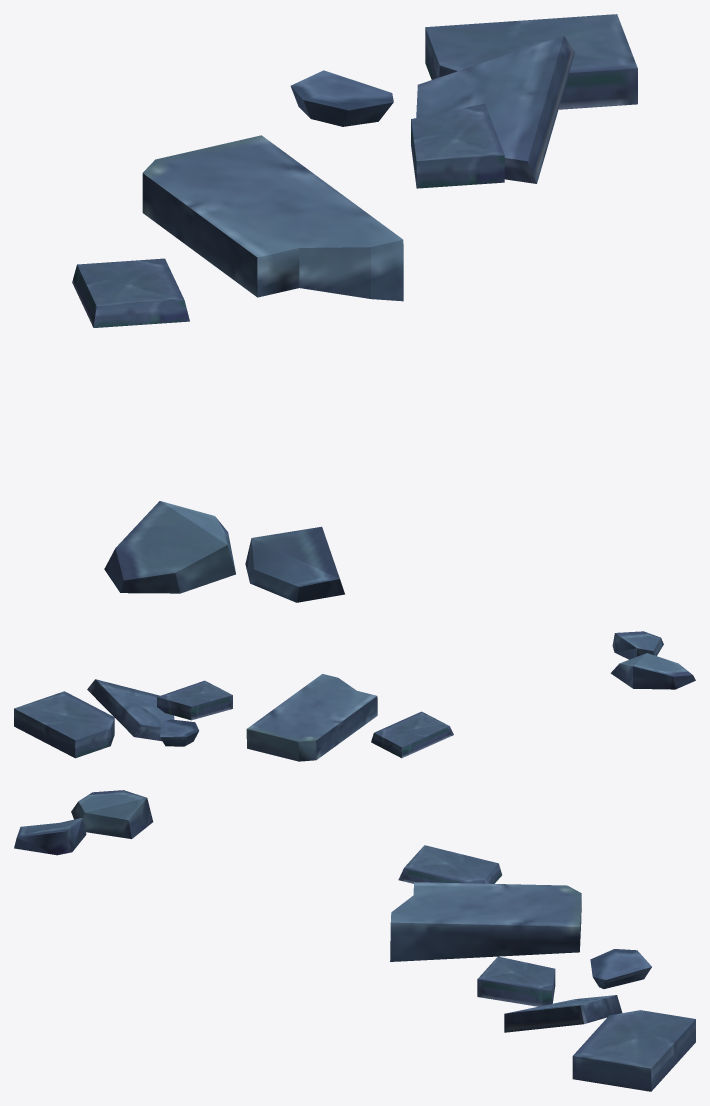
The model's file is Area10_6.fbx.
3 views of the same model, one above another, from view 1: azimuth 30°, elevation 25°; view 2: azimuth 150°, elevation 25°; view 3: azimuth 270°, elevation 25° (orthographic). The views are drawn at different scales.
Parts seen in each view (by area): view 1: Area10_6; view 2: Area10_6; view 3: Area10_6.
Boxes of the visible parts, x1,y1,x2,y2 form: Area10_6: (72, 14, 637, 602); Area10_6: (14, 631, 695, 761); Area10_6: (14, 790, 695, 1091).
Size of the model in its own units: 1104 by 105 by 1085.
1 material, 1 textured.
